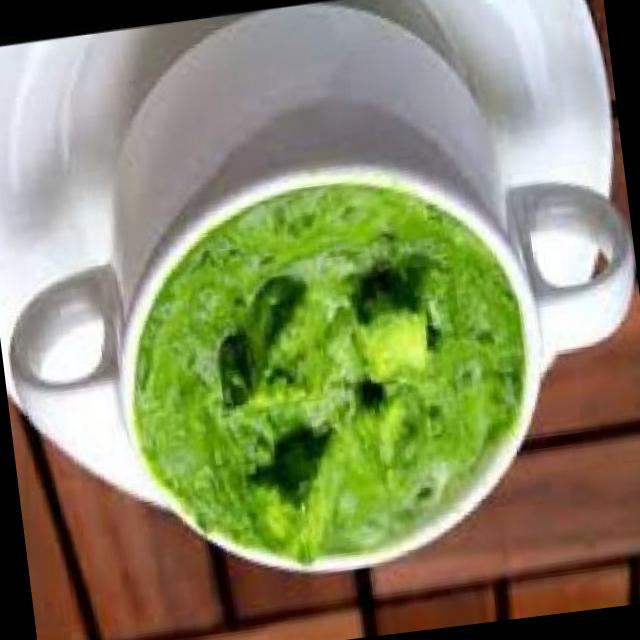palak_paneer: (108, 158, 548, 584)
